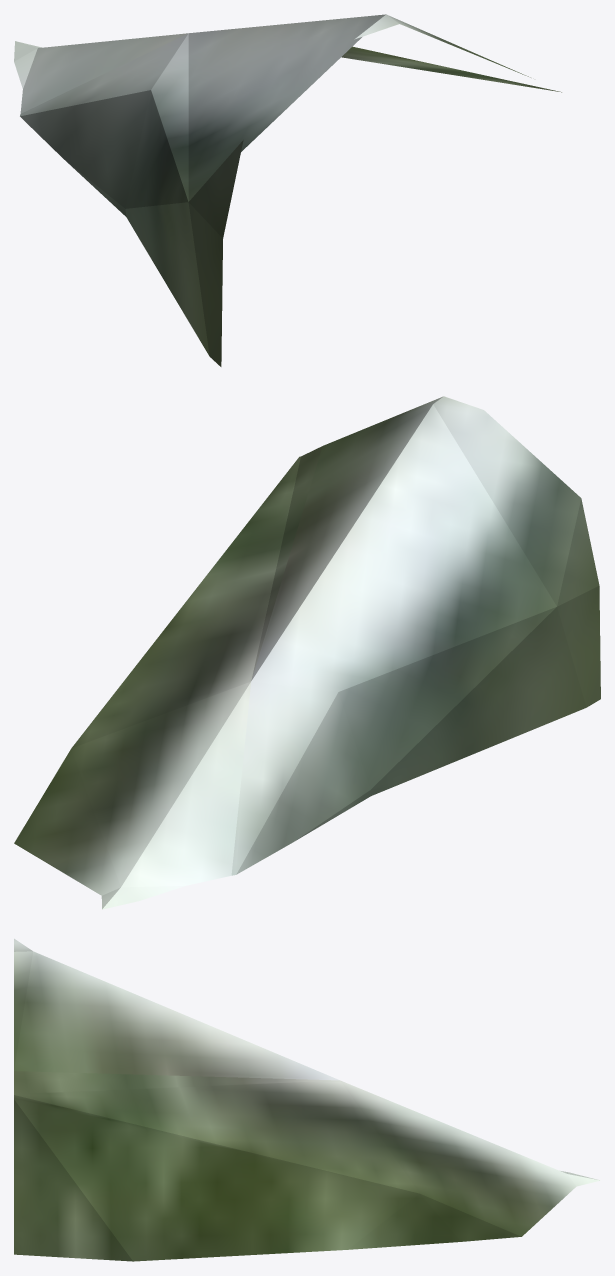
3 renders of one model, top to bottom at view 1: azimuth 30°, elevation 25°; view 2: azimuth 150°, elevation 25°; view 3: azimuth 270°, elevation 25°, orthographic. The views are drawn at different scales.
Size of the model in its own units: 0.2263 by 0.1632 by 0.3801.
1 material, 1 textured.
